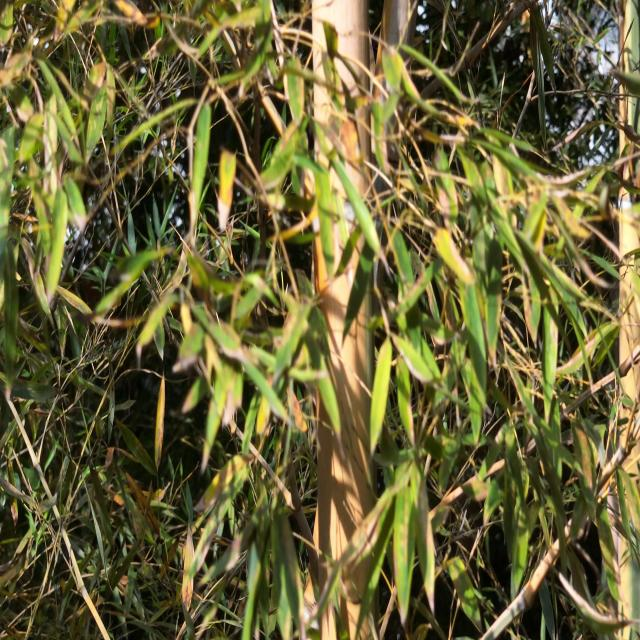Bamboo-shoots: (311, 0, 375, 640)
